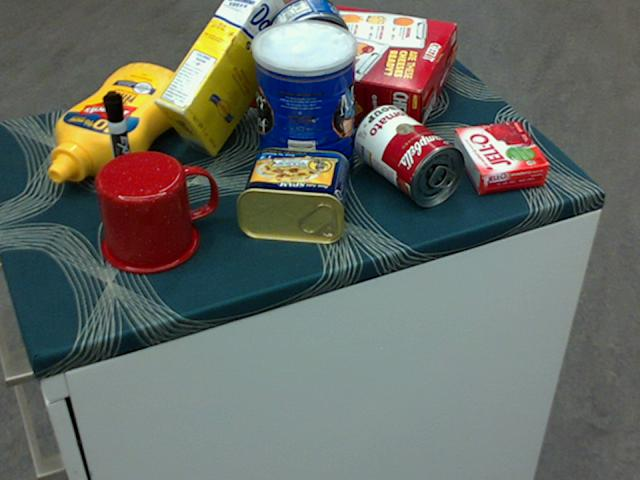cracker_box: (237, 0, 454, 138)
gelatin_box: (451, 122, 548, 193)
large_marker: (101, 91, 138, 202)
master_chef_can: (251, 20, 357, 190)
mug: (96, 150, 218, 273)
mustard_bottle: (47, 64, 191, 183)
potted_meat_can: (236, 147, 348, 243)
sugar_box: (154, 0, 297, 158)
tomato_soup_can: (353, 104, 464, 206)
tuna_fish_can: (266, 0, 350, 79)
